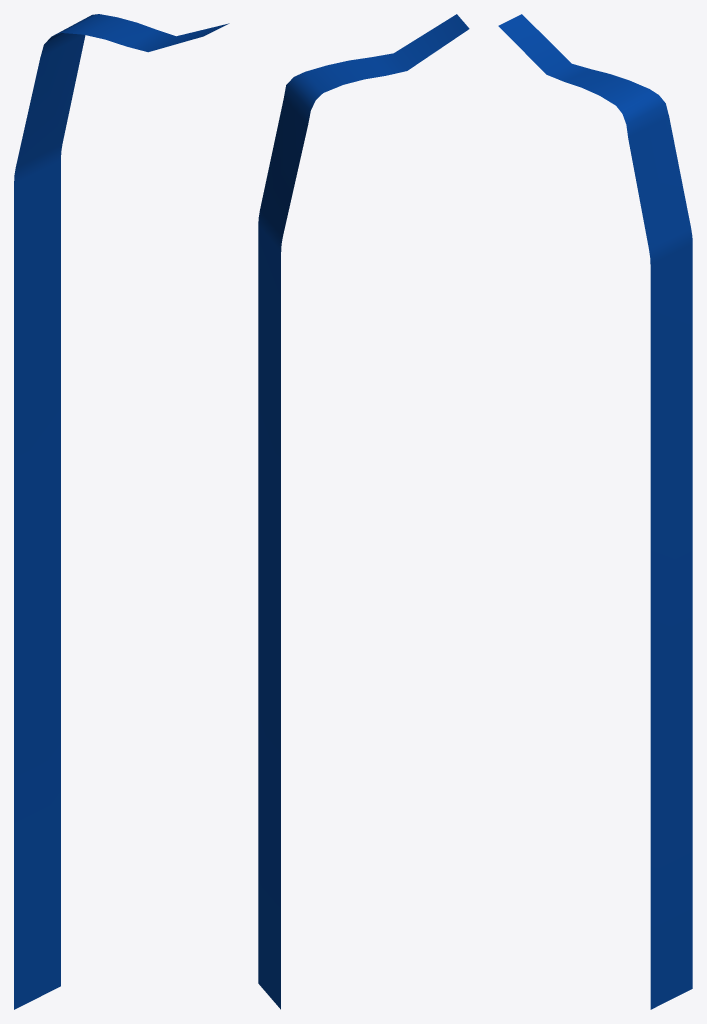
Rendered from WaterFall.fbx.
3 views of the same model, side by side, from view 1: azimuth 90°, elevation 25°; view 2: azimuth 150°, elevation 25°; view 3: azimuth 270°, elevation 25° (orthographic). The views are drawn at different scales.
Visible parts, largest first — view 1: SM_JF_Water_02_Part4; view 2: SM_JF_Water_02_Part4; view 3: SM_JF_Water_02_Part4.
Part boxes in pixels (<box>): SM_JF_Water_02_Part4: <box>14,14,229,1009</box>; SM_JF_Water_02_Part4: <box>258,14,469,1009</box>; SM_JF_Water_02_Part4: <box>498,14,692,1009</box>.
Size of the model in its own units: 1675 by 10330 by 1967.
1 material, 1 textured.
